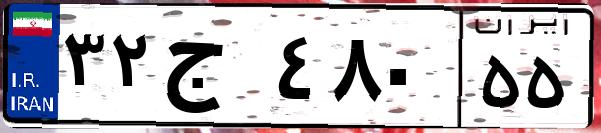0: (385, 28, 445, 110)
2: (110, 28, 158, 98)
3: (57, 26, 110, 100)
4: (270, 28, 330, 110)
5: (475, 38, 525, 113), (525, 38, 570, 115)
8: (330, 28, 385, 110)
ج: (158, 20, 270, 120)
